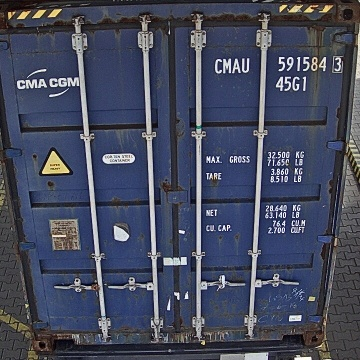serial_id: (214, 56, 343, 73)
